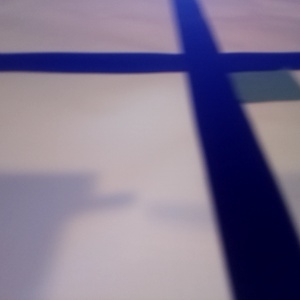top_right: (114, 90, 206, 130), (120, 75, 198, 102)
